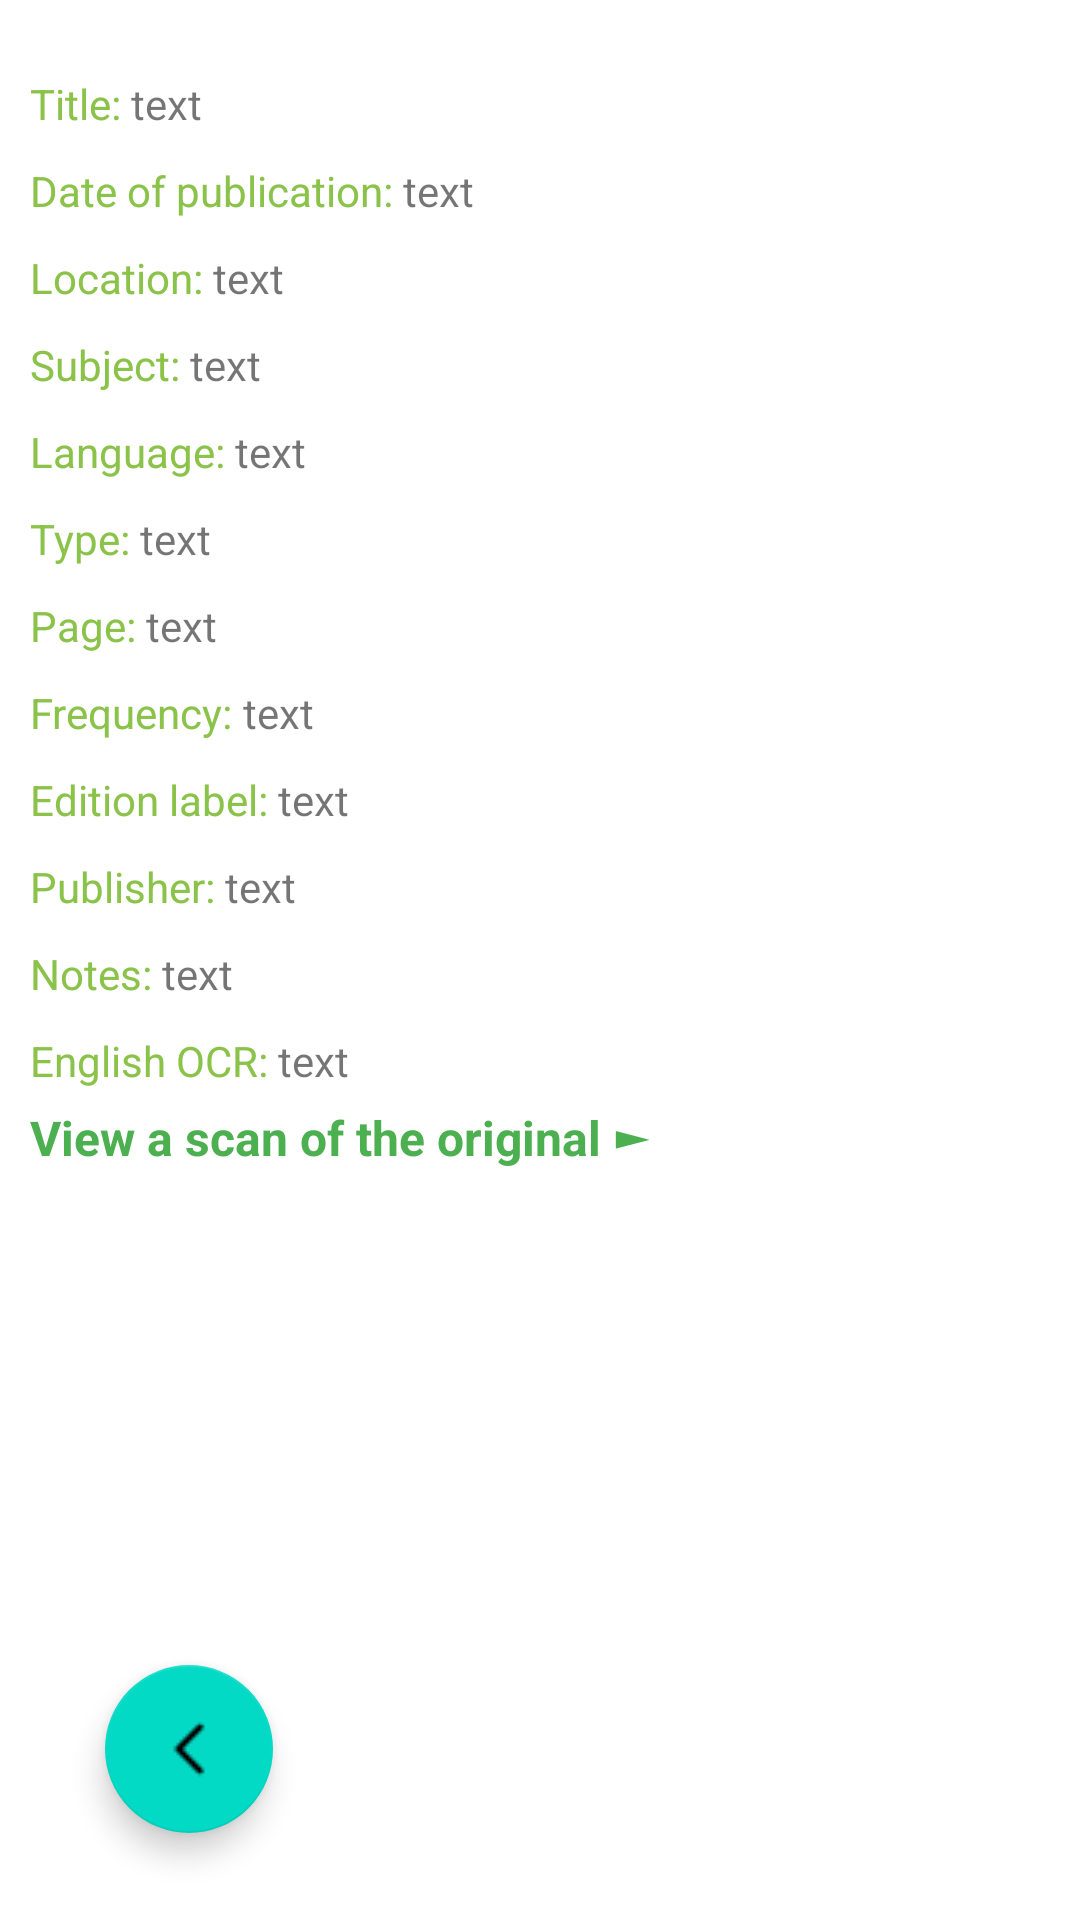

Where to tap for icons on this 1080px x 1920px app screen, as point (x, y):
Back button: point (189, 1749)
